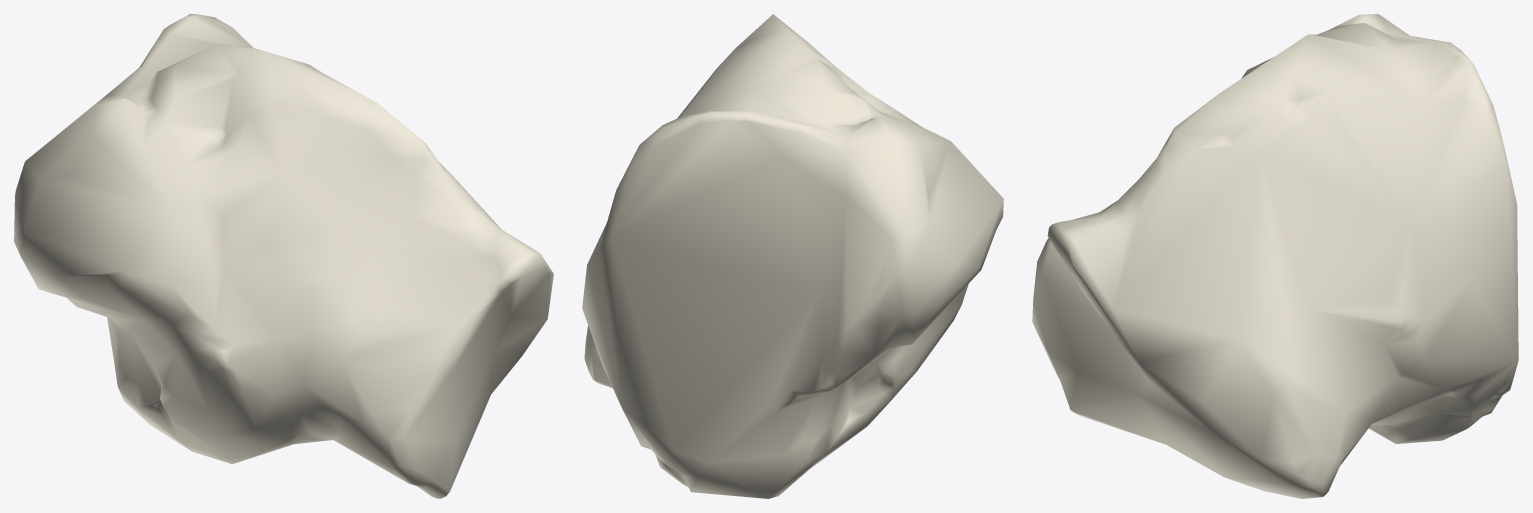
The picture shows the model from 3 angles, left to right: view 1: azimuth 30°, elevation 25°; view 2: azimuth 150°, elevation 25°; view 3: azimuth 270°, elevation 25°; orthographic projection. The views are drawn at different scales.
Visible parts, largest first — view 1: ZA_863be8d1262d8fb2; view 2: ZA_863be8d1262d8fb2; view 3: ZA_863be8d1262d8fb2.
Boxes of the visible parts, box(x1,y1,x2,y2) form: ZA_863be8d1262d8fb2: box(14, 14, 553, 498); ZA_863be8d1262d8fb2: box(582, 14, 1003, 498); ZA_863be8d1262d8fb2: box(1032, 14, 1518, 498).
Bounding box in the file's own units: 0.0322 × 0.0309 × 0.0342.
